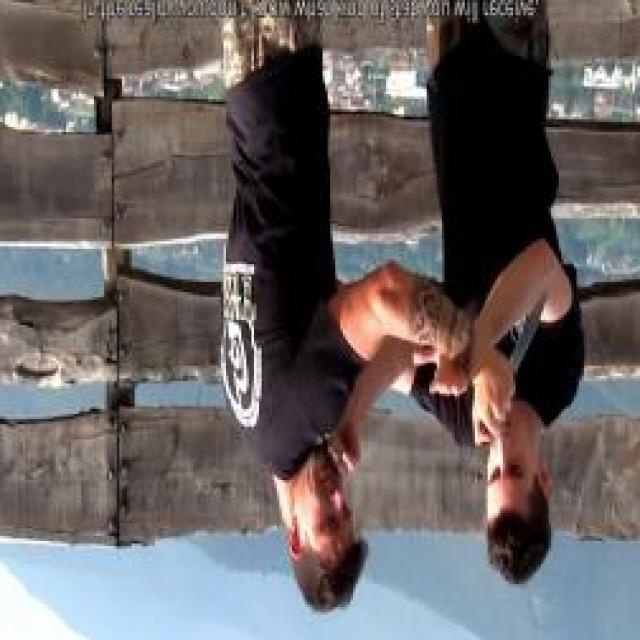knife: (472, 290, 554, 450)
